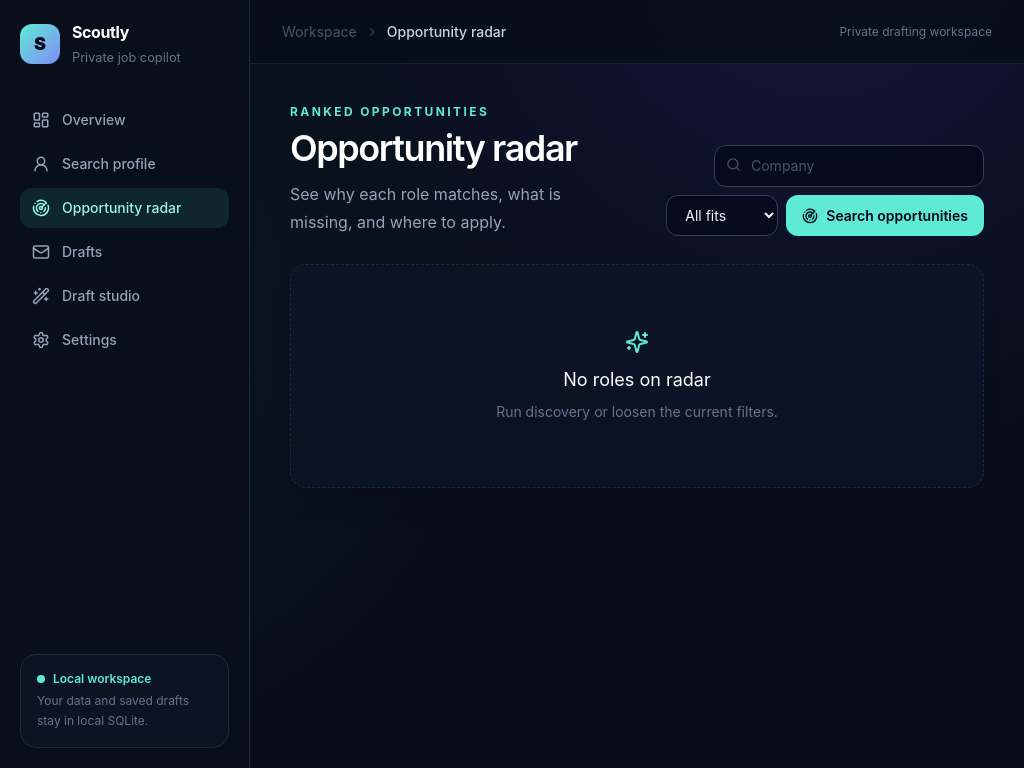
Test: starts and displays a completed Radar discovery run
The width and height of the screenshot is (1024, 768).
Expected: the heading "No roles on radar" is shown, [563, 369, 711, 390]
Click the button "Search opportunities".
click(885, 216)  # box [786, 195, 984, 236]
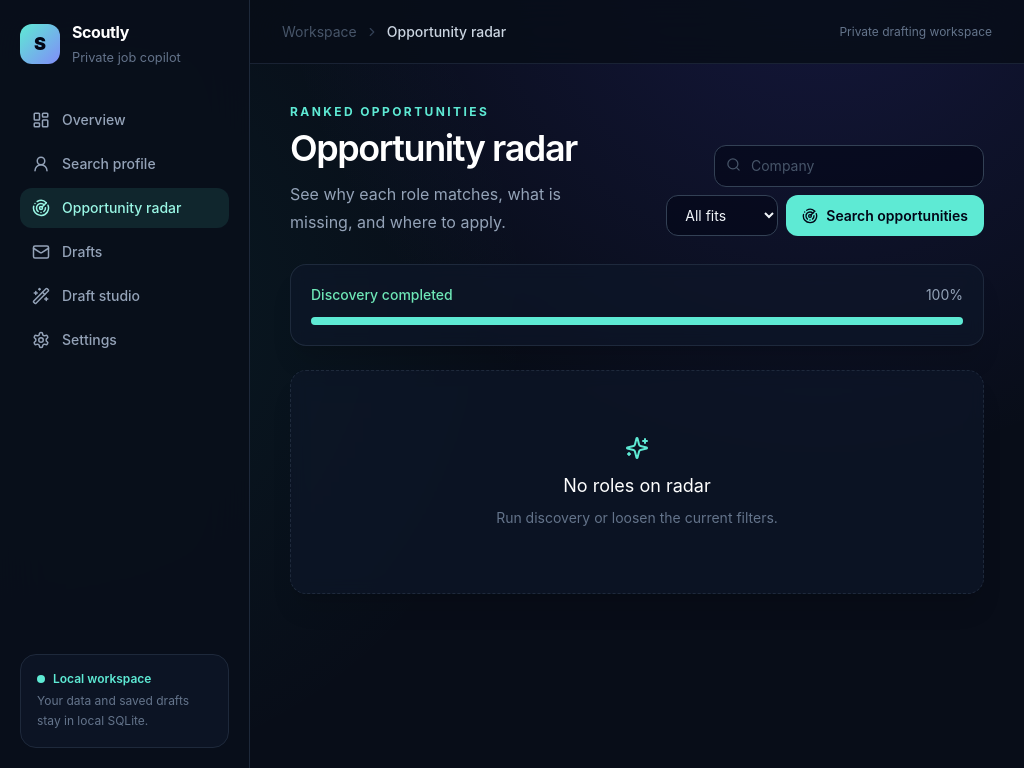
Result: the text "Discovery completed" is shown at [311, 285, 453, 305]
